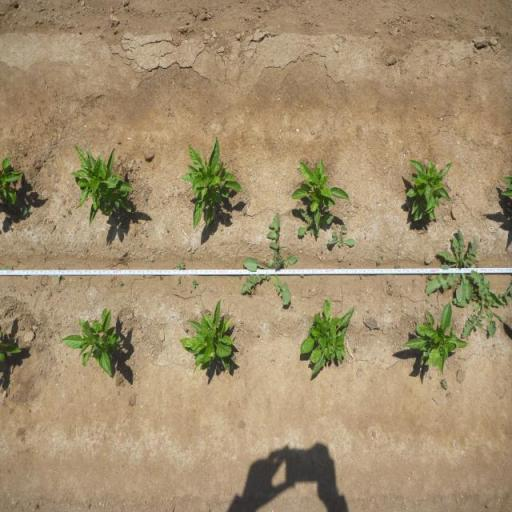plant: (180, 132, 244, 230), (70, 138, 135, 228), (57, 304, 124, 380), (297, 297, 354, 383), (396, 303, 464, 373), (178, 296, 232, 378), (289, 153, 352, 212), (402, 156, 456, 223), (0, 154, 23, 206)
weed: (238, 211, 298, 306), (453, 271, 512, 339), (422, 227, 476, 298), (295, 207, 335, 242), (328, 226, 357, 248), (56, 264, 66, 286), (22, 205, 32, 217), (190, 278, 200, 290), (440, 377, 448, 391), (177, 260, 185, 270), (424, 274, 434, 282), (230, 352, 236, 364), (176, 275, 182, 287), (65, 207, 72, 216), (118, 278, 124, 288), (0, 266, 14, 270), (142, 193, 148, 201), (158, 275, 164, 282), (60, 212, 66, 218), (242, 210, 248, 216), (238, 274, 243, 281), (394, 264, 401, 269), (352, 347, 357, 353), (183, 327, 189, 332), (376, 260, 381, 265), (381, 254, 385, 260), (22, 274, 26, 279)
